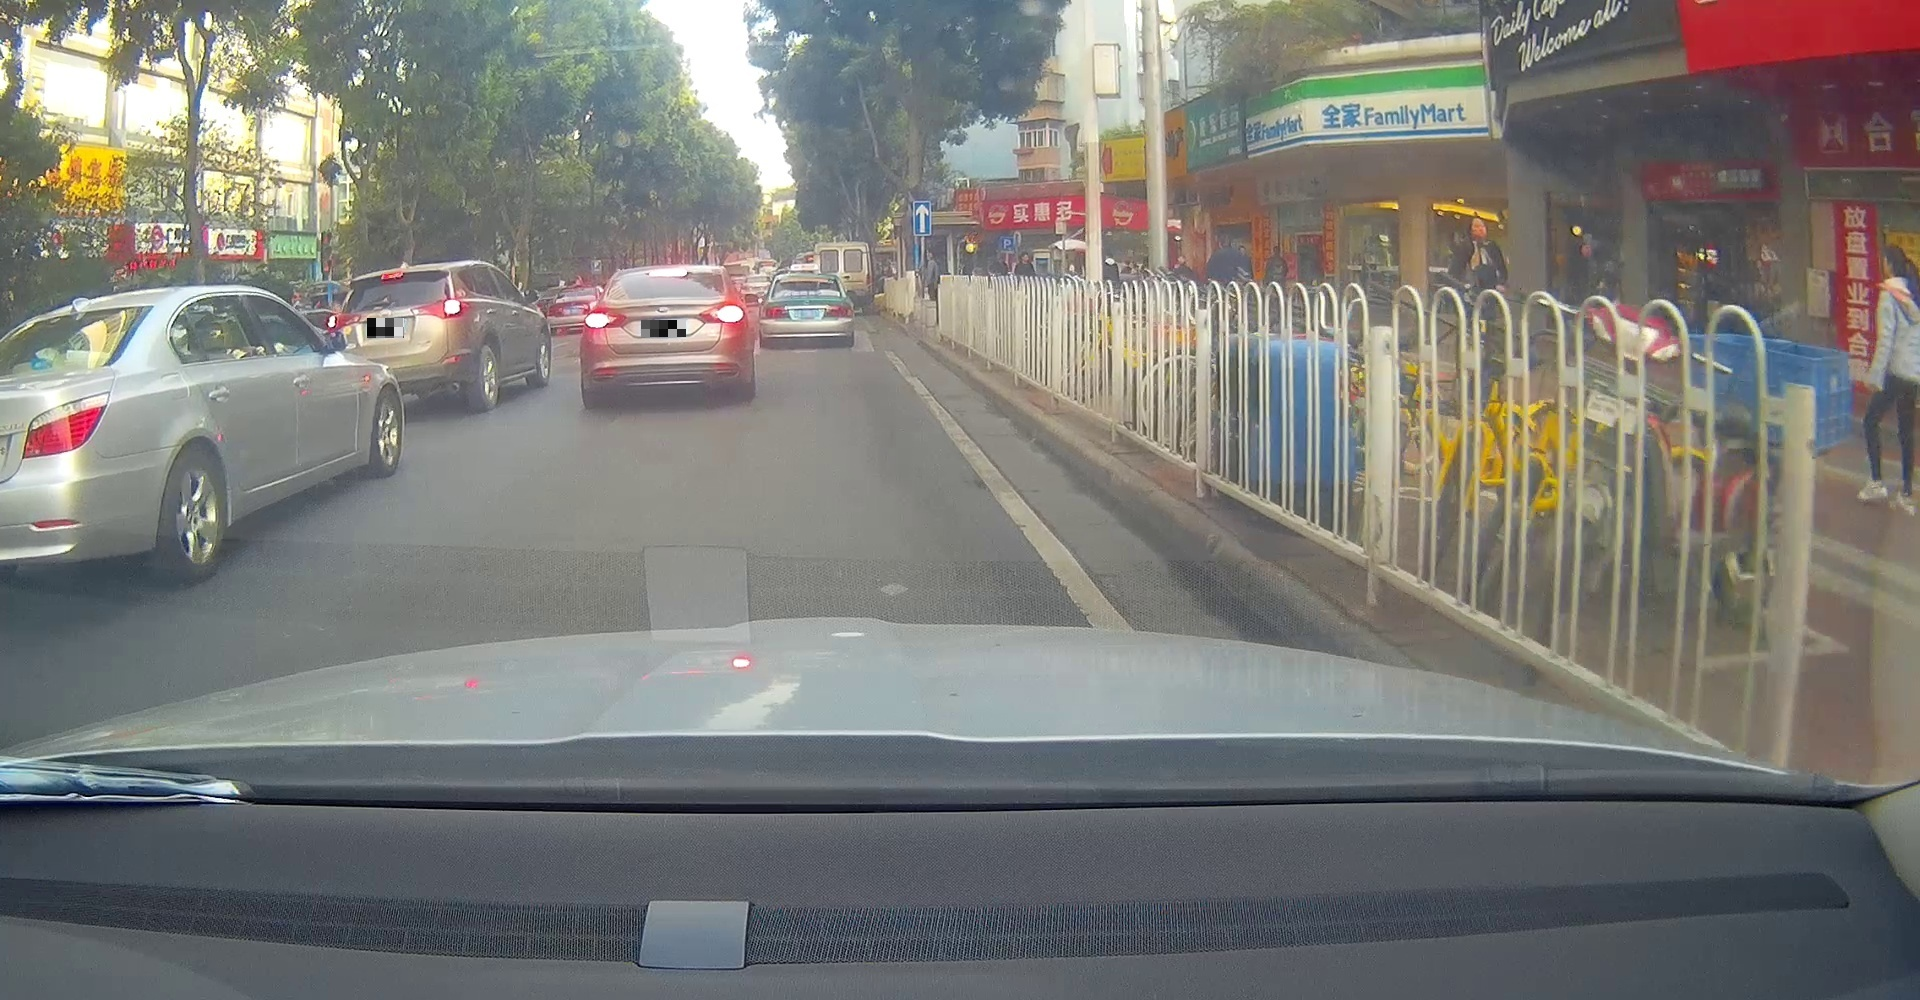L_light: (584, 310, 627, 330), (326, 312, 361, 332)
R_light: (698, 302, 745, 325), (418, 299, 469, 320)
T_light: (649, 269, 688, 279), (380, 272, 405, 280)
day-brake: (580, 265, 749, 409), (325, 261, 470, 412)
plate_1: (367, 319, 404, 338)
plate_2: (641, 320, 686, 338)
